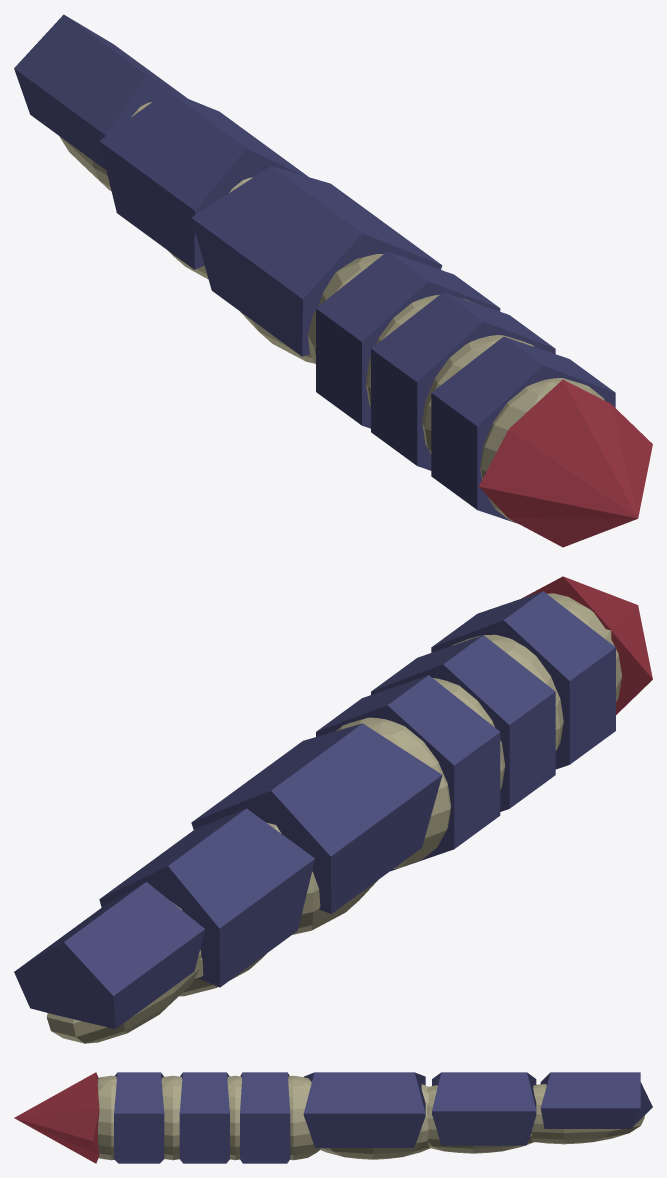
The model's file is Worm_model.fbx.
3 views of the same model, one above another, from view 1: azimuth 30°, elevation 25°; view 2: azimuth 150°, elevation 25°; view 3: azimuth 270°, elevation 25° (orthographic). The views are drawn at different scales.
Visible parts, largest first — view 1: pPrism4, pPrism5, pPrism6, pPrism2, pPrism1, pPrism3, pPyramid1, pPyramid4, pSphere1, pPyramid3, pPyramid2, pSphere2 (+2 smaller); view 2: pPrism4, pPrism5, pPrism6, pPrism1, pPrism3, pPrism2, pSphere4, pPyramid4, pSphere7, pPyramid1, pSphere2, pSphere5 (+2 smaller); view 3: pPrism4, pPrism5, pPrism6, pPrism3, pPrism2, pPrism1, pPyramid2, pSphere7, pSphere4, pPyramid1, pSphere2, pSphere1 (+4 smaller).
Part boxes in pixels (bbox=[...]): pPrism4: bbox=[191, 166, 442, 356]; pPrism5: bbox=[99, 91, 308, 269]; pPrism6: bbox=[14, 14, 187, 170]; pPrism2: bbox=[371, 292, 555, 470]; pPrism1: bbox=[431, 336, 615, 523]; pPrism3: bbox=[316, 251, 500, 428]; pPyramid1: bbox=[508, 379, 637, 517]; pPyramid4: bbox=[478, 429, 637, 518]; pSphere1: bbox=[480, 378, 607, 523]; pPyramid3: bbox=[509, 500, 637, 547]; pPyramid2: bbox=[611, 405, 652, 518]; pSphere2: bbox=[422, 335, 534, 454]; pPrism4: bbox=[191, 723, 442, 913]; pPrism5: bbox=[99, 808, 315, 987]; pPrism6: bbox=[14, 882, 204, 1028]; pPrism1: bbox=[431, 591, 615, 769]; pPrism3: bbox=[316, 675, 500, 871]; pPrism2: bbox=[371, 635, 555, 811]; pSphere4: bbox=[336, 717, 451, 868]; pPyramid4: bbox=[611, 605, 652, 714]; pSphere7: bbox=[46, 903, 201, 1043]; pPyramid1: bbox=[522, 576, 637, 630]; pSphere2: bbox=[452, 634, 563, 751]; pSphere5: bbox=[266, 822, 377, 934]; pPrism4: bbox=[303, 1072, 425, 1147]; pPrism5: bbox=[432, 1072, 536, 1145]; pPrism6: bbox=[540, 1072, 652, 1128]; pPrism3: bbox=[240, 1072, 290, 1163]; pPrism2: bbox=[179, 1072, 229, 1163]; pPrism1: bbox=[114, 1072, 164, 1163]; pPyramid2: bbox=[14, 1107, 99, 1155]; pSphere7: bbox=[531, 1084, 644, 1144]; pSphere4: bbox=[288, 1075, 320, 1160]; pPyramid1: bbox=[14, 1072, 99, 1117]; pSphere2: bbox=[161, 1075, 182, 1160]; pSphere1: bbox=[90, 1075, 116, 1160].
Bounding box in the file's own units: 1.29 × 1.19 × 7.5.
